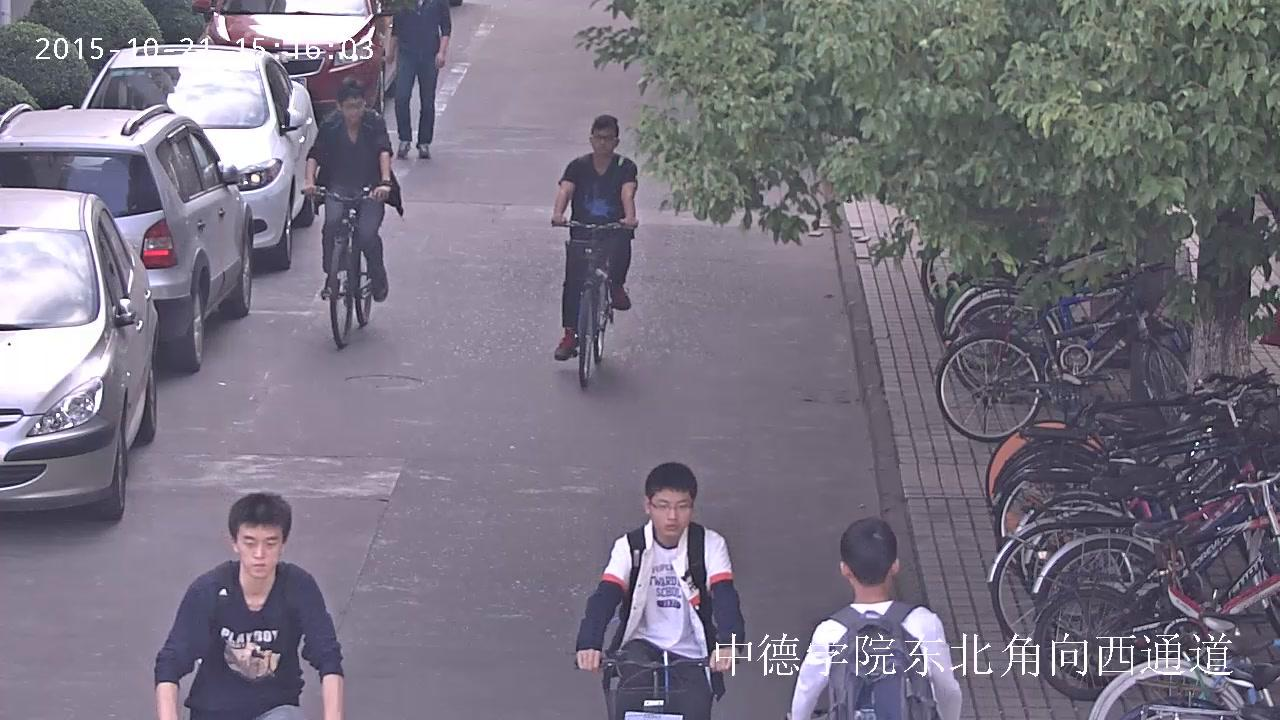person: (572, 463, 745, 720), (573, 462, 745, 720), (154, 492, 345, 720), (788, 518, 961, 720), (296, 72, 403, 350), (548, 115, 639, 386), (301, 74, 403, 303), (550, 115, 638, 361), (385, 0, 453, 161)
